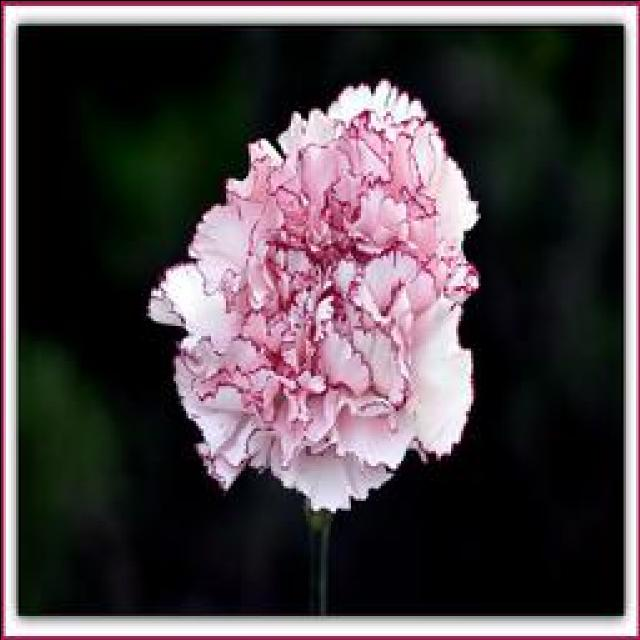carnation: (154, 75, 482, 469)
